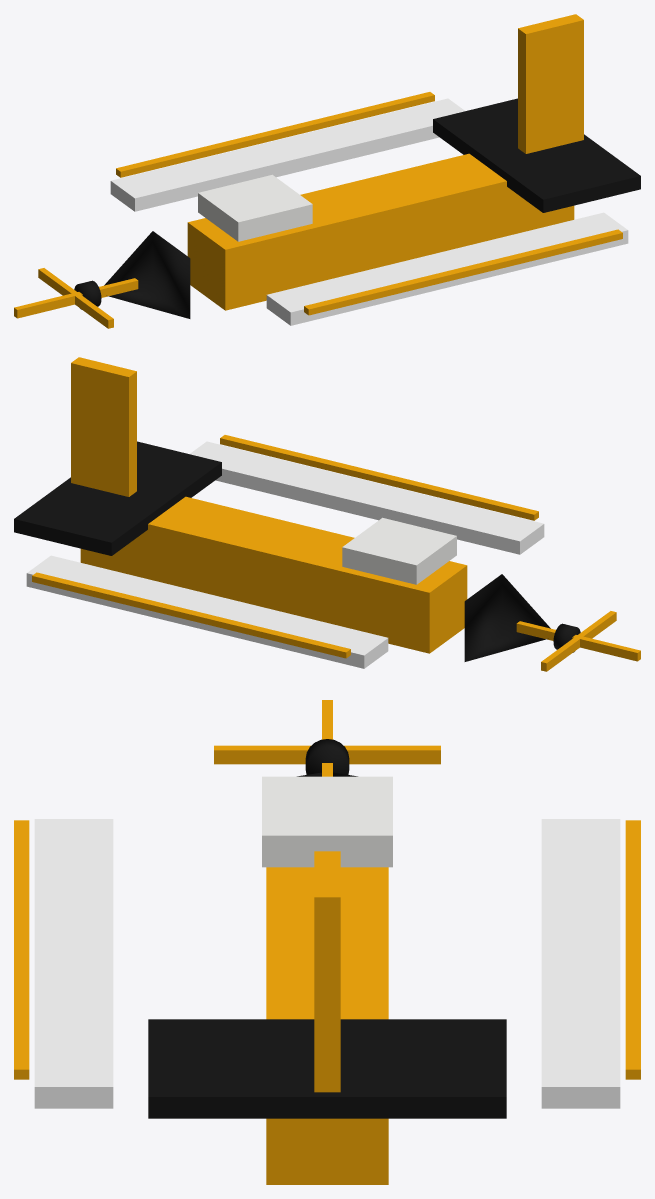
File: plane_orange.glb
The picture shows the model from 3 angles, top to bottom: view 1: azimuth 30°, elevation 25°; view 2: azimuth 150°, elevation 25°; view 3: azimuth 270°, elevation 25°; orthographic projection. The views are drawn at different scales.
Parts seen in each view (by area): view 1: plane fuselage orange, plane main wing right, plane tail wing, plane main wing left, plane vertical tail, plane cockpit glass, plane nose, plane wing orange stripe left, plane wing orange stripe right, plane spinning prop blade.001, plane spinning prop blade; view 2: plane fuselage orange, plane main wing left, plane tail wing, plane main wing right, plane vertical tail, plane cockpit glass, plane nose, plane wing orange stripe right, plane wing orange stripe left, plane spinning prop blade.001, plane spinning prop blade; view 3: plane tail wing, plane fuselage orange, plane main wing left, plane main wing right, plane cockpit glass, plane vertical tail, plane wing orange stripe left, plane wing orange stripe right, plane spinning prop blade, plane prop spinner.
Part boxes in pixels (x1=…): plane fuselage orange: x1=187, y1=153, x2=574, y2=310; plane main wing right: x1=110, y1=98, x2=465, y2=211; plane tail wing: x1=433, y1=98, x2=640, y2=212; plane main wing left: x1=266, y1=212, x2=628, y2=325; plane vertical tail: x1=518, y1=14, x2=583, y2=153; plane cockpit glass: x1=198, y1=174, x2=312, y2=241; plane nose: x1=104, y1=231, x2=190, y2=318; plane wing orange stripe left: x1=304, y1=229, x2=622, y2=315; plane wing orange stripe right: x1=116, y1=92, x2=434, y2=177; plane spinning prop blade.001: x1=14, y1=278, x2=138, y2=318; plane spinning prop blade: x1=38, y1=268, x2=113, y2=328; plane fuselage orange: x1=80, y1=496, x2=467, y2=653; plane main wing left: x1=189, y1=441, x2=544, y2=554; plane tail wing: x1=14, y1=441, x2=221, y2=555; plane main wing right: x1=26, y1=555, x2=388, y2=668; plane vertical tail: x1=71, y1=357, x2=136, y2=496; plane cockpit glass: x1=342, y1=517, x2=456, y2=584; plane nose: x1=464, y1=574, x2=550, y2=661; plane wing orange stripe right: x1=32, y1=572, x2=350, y2=658; plane wing orange stripe left: x1=220, y1=435, x2=538, y2=520; plane spinning prop blade.001: x1=516, y1=621, x2=640, y2=661; plane spinning prop blade: x1=541, y1=611, x2=616, y2=671; plane tail wing: x1=148, y1=1019, x2=506, y2=1118; plane fuselage orange: x1=266, y1=867, x2=388, y2=1184; plane main wing left: x1=34, y1=819, x2=113, y2=1108; plane main wing right: x1=541, y1=819, x2=620, y2=1108; plane cockpit glass: x1=262, y1=776, x2=392, y2=867; plane vertical tail: x1=314, y1=851, x2=340, y2=1092; plane wing orange stripe left: x1=14, y1=820, x2=29, y2=1079; plane wing orange stripe right: x1=625, y1=820, x2=640, y2=1079; plane spinning prop blade: x1=214, y1=745, x2=440, y2=764; plane prop spinner: x1=305, y1=739, x2=349, y2=774.
Size of the model in its own units: 2.45 by 0.775 by 1.43.
